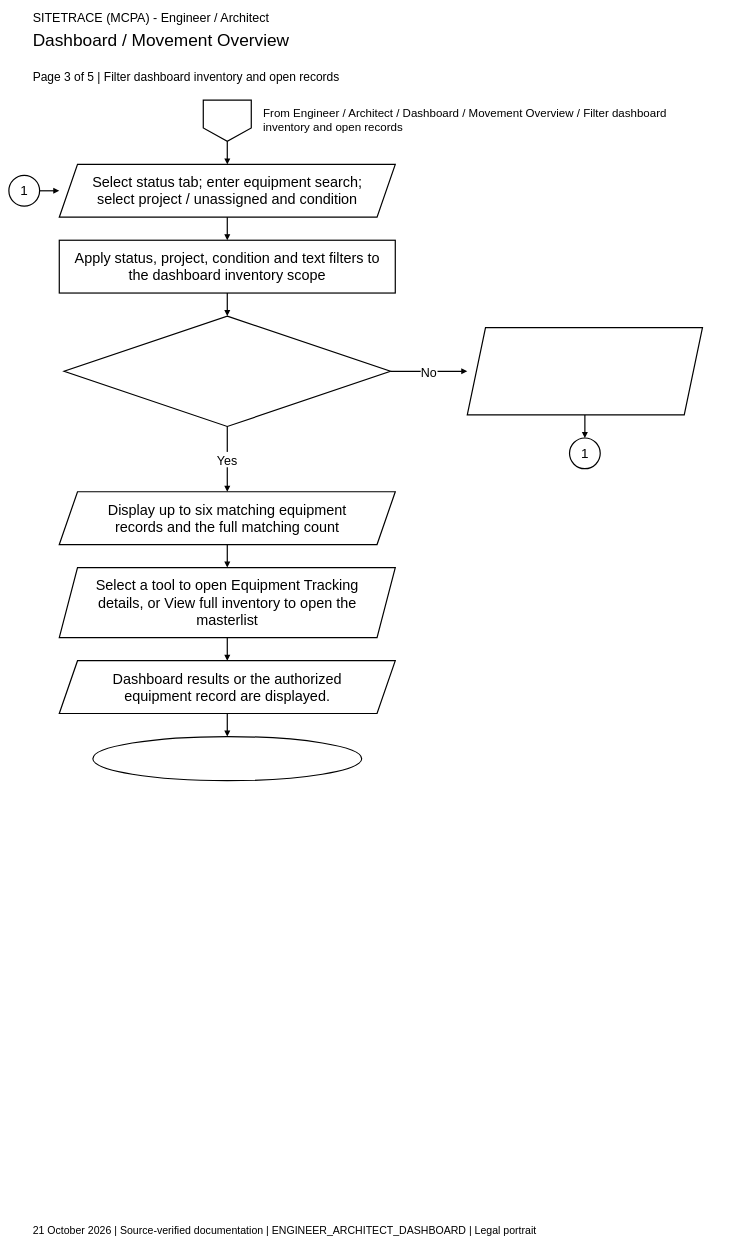
Some shapes in this 747 by 1248 pixel diagram are drawn without their labels. Here are the shapes that lost their labels. From the top down, the box of each, then its label:
(202, 99, 252, 142): KU
(63, 315, 391, 427): Matching equipment exists?
(466, 327, 703, 415): Show No matching equipment Change or clear filters and search
(92, 736, 362, 781): END
